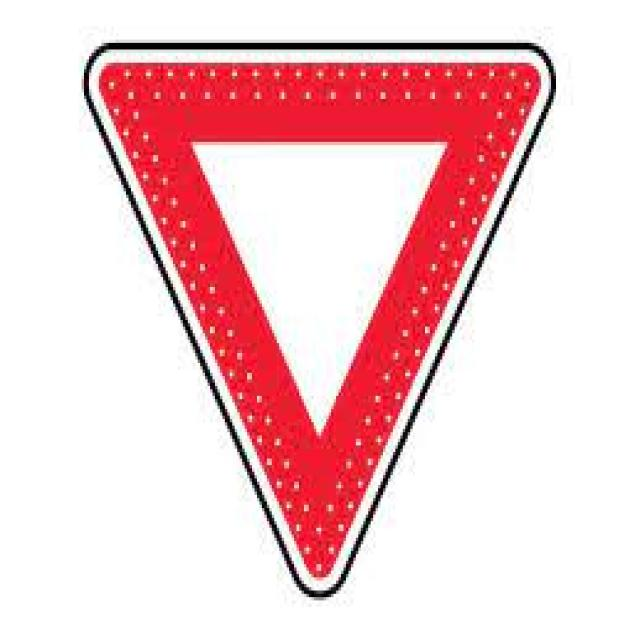Ceder-le-Passage: (85, 41, 559, 600)
